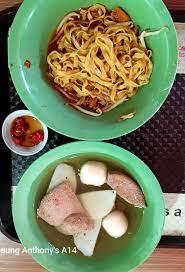Braised Crucian Carp: (8, 0, 177, 137), (11, 139, 164, 270)
